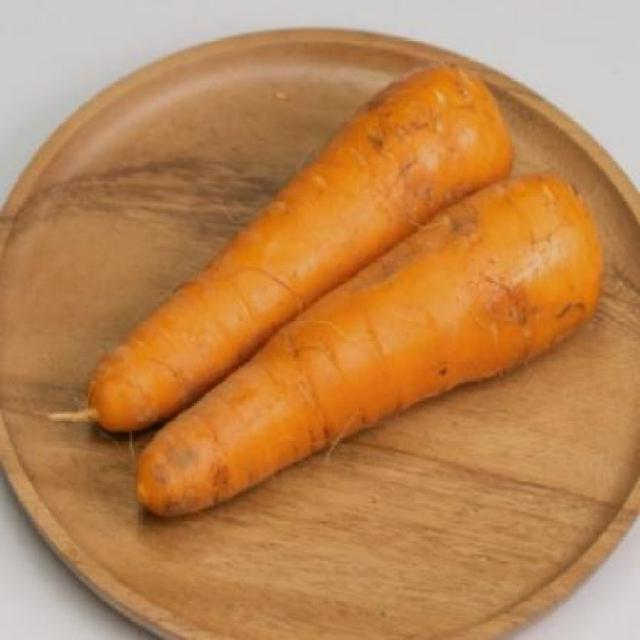carrot: (127, 171, 609, 531), (82, 55, 511, 444)
